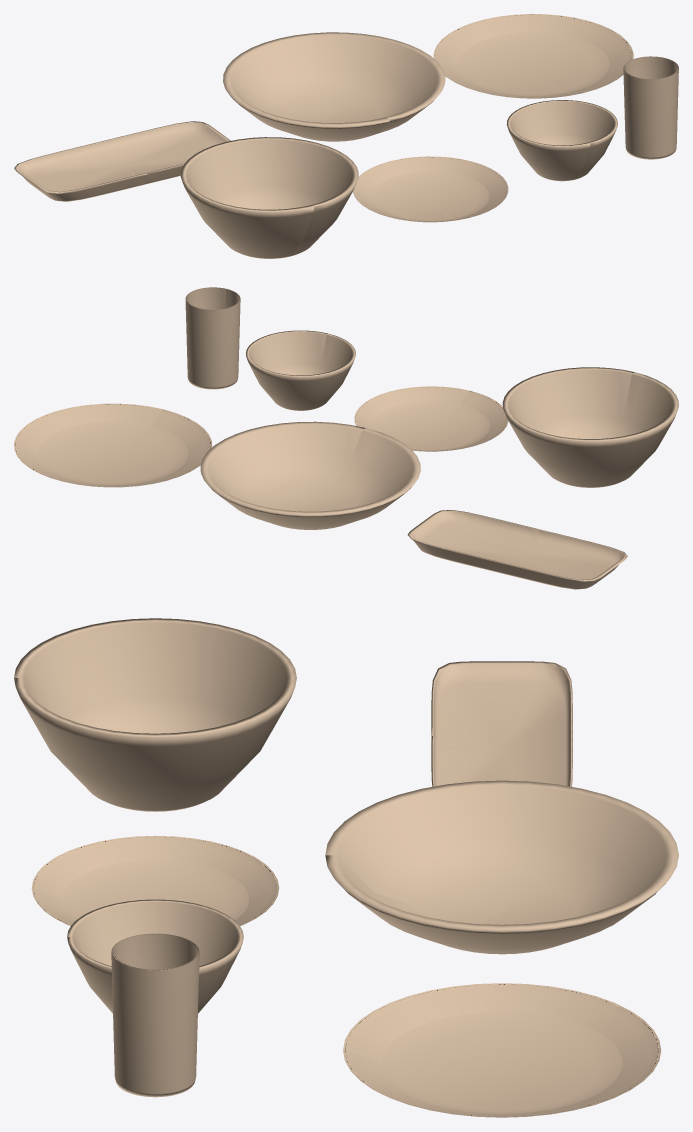
Rendered from COL-03.glb.
3 views of the same model, one above another, from view 1: azimuth 30°, elevation 25°; view 2: azimuth 150°, elevation 25°; view 3: azimuth 270°, elevation 25° (orthographic). The views are drawn at different scales.
Size of the model in its own units: 0.92 by 0.12 by 0.564.
